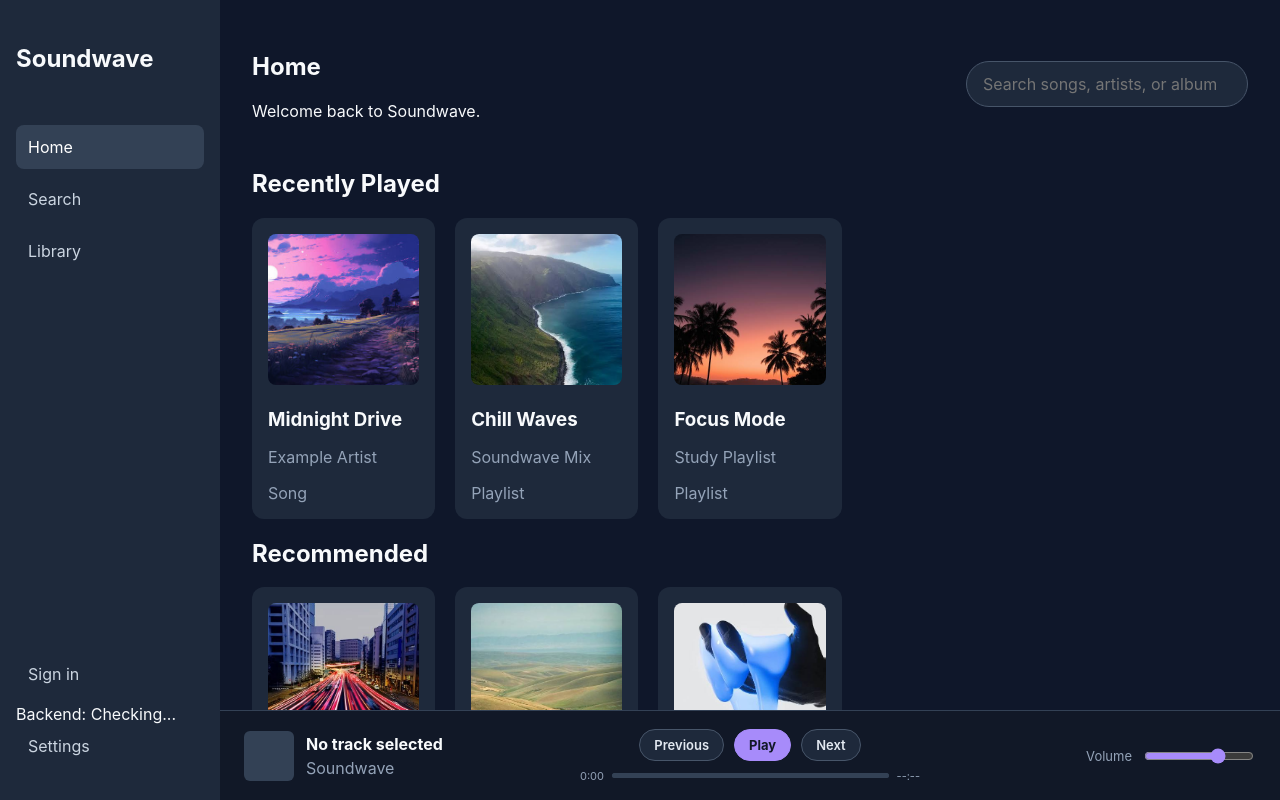
Test: App search navigation › preserves Home search input after visiting Search
# Type without submitting the search.
In the search field named "Search music": (1107, 84) [966,61,1248,107], type "hello"
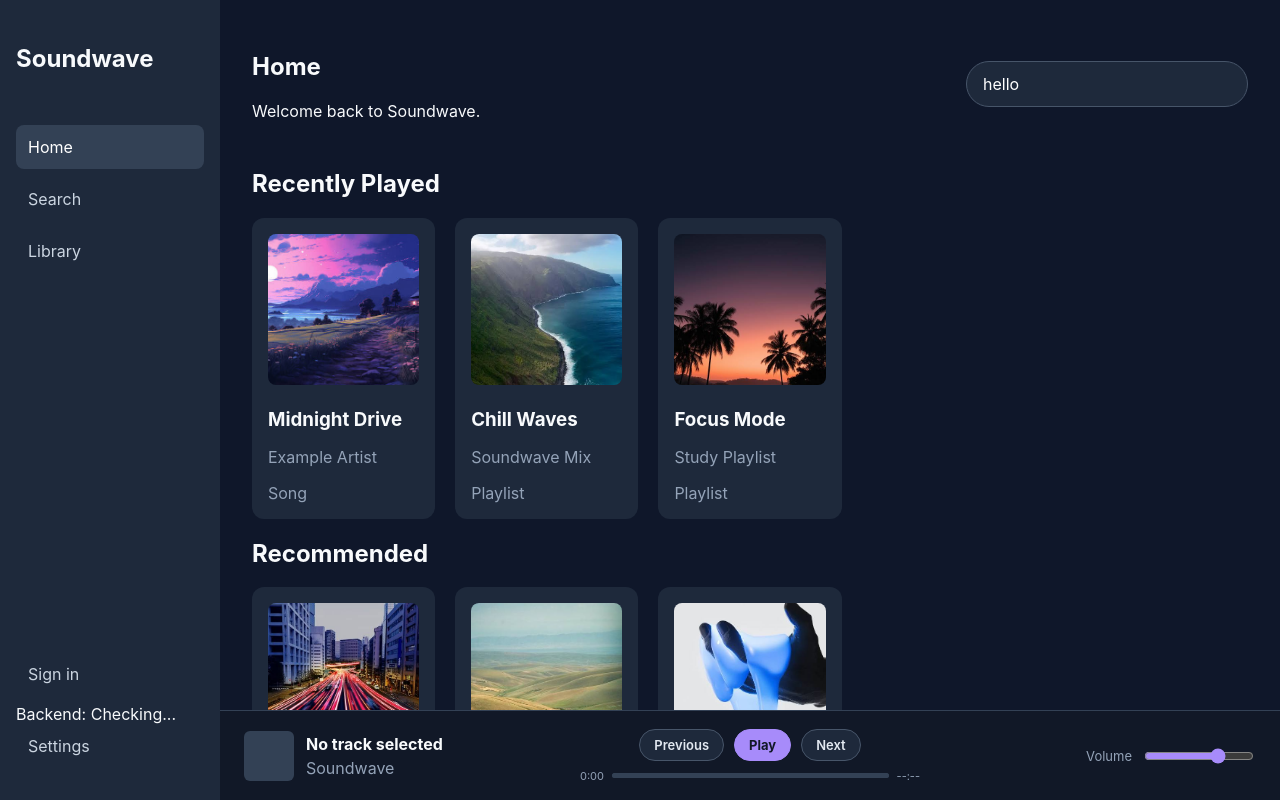
# Leave Home and return.
Click the button "Search": (110, 199) [16,177,204,221]
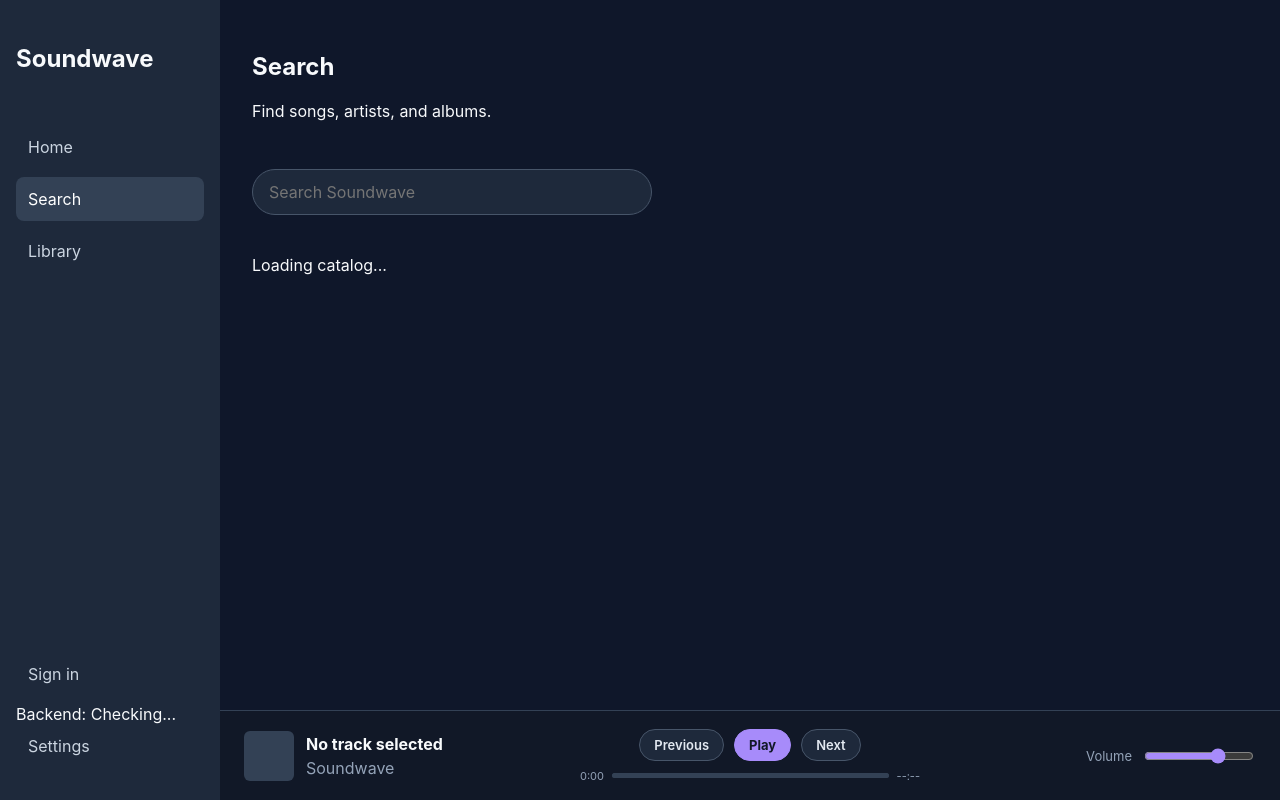
Click the button "Home": (110, 147) [16,125,204,169]
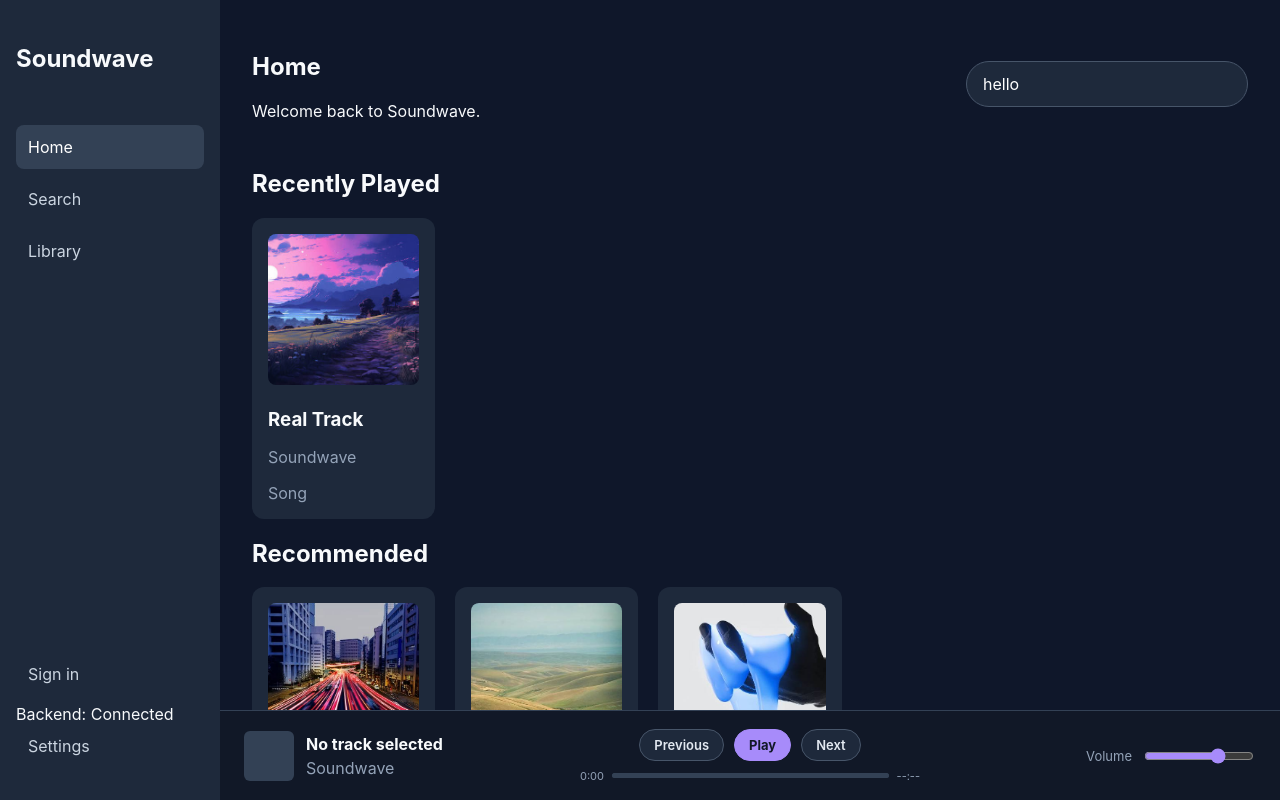
expect the search field named "Search music" holds "hello": met, box [966,61,1248,107]
